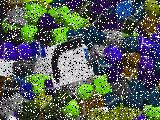Left: (44, 36, 90, 88)
